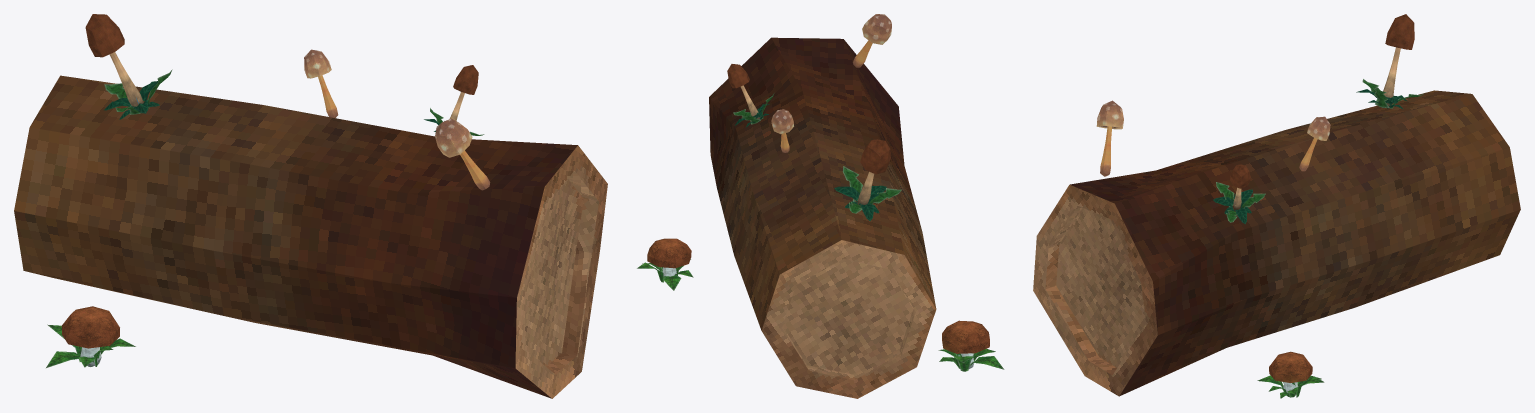
Rendered from prefab_18.glb.
3 renders of one model, left to right at view 1: azimuth 30°, elevation 25°; view 2: azimuth 150°, elevation 25°; view 3: azimuth 270°, elevation 25°, orthographic. The views are drawn at different scales.
Visible parts, largest first — view 1: PRFB_18-no-col; view 2: PRFB_18-no-col; view 3: PRFB_18-no-col.
Part boxes in pixels (box(x1,y1,x2,y2)): PRFB_18-no-col: box(14, 14, 607, 398); PRFB_18-no-col: box(637, 14, 1004, 398); PRFB_18-no-col: box(1033, 14, 1520, 398).
Bounding box in the file's own units: 2.35 × 1.5 × 2.59.
3 materials, 3 textured.
